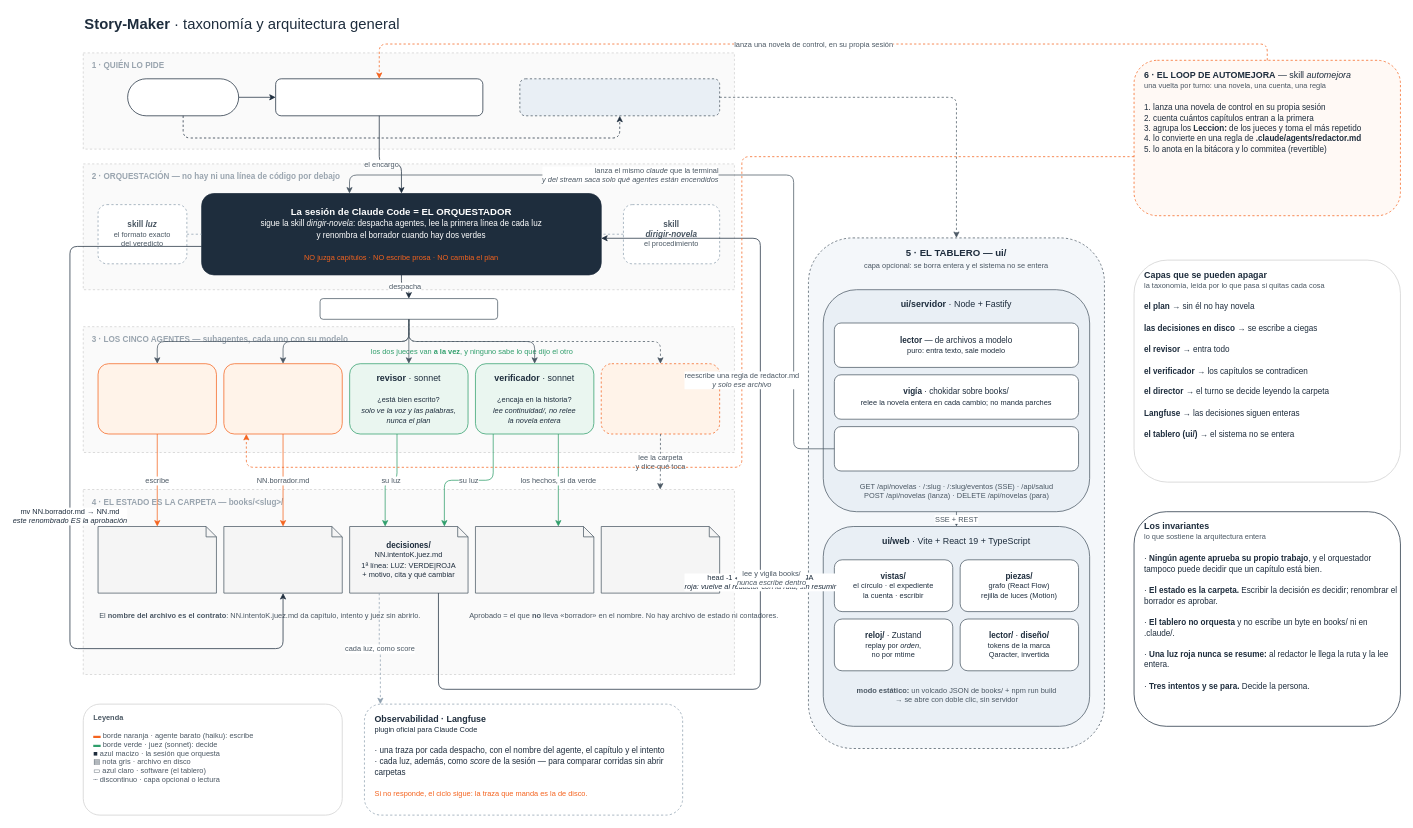
The diagram is 1413 pixels wide and 828 high, and some of its shapes have lost their labels. The shapes that lost their labels are listed below. From the top down, each one's centre as x and y in pixels, then its label:
At pixel 183 97: "Persona".
At pixel 379 97: "Terminal / VS Code > una novela sobre una ciclista…".
At pixel 619 97: "El tablero · pestaña «Escribir novela» el mismo encargo, desde el navegador".
At pixel 408 308: "herramienta Agent · description: «redactor · cap 03 · intento 2»".
At pixel 156 398: "arquitecto · haiku convierte la idea y la longitud en el plan de la novela".
At pixel 282 398: "redactor · haiku escribe el capítulo, y lo reescribe si le dan roja".
At pixel 660 398: "director · haiku ¿qué toca ahora? solo cuando no está claro cómo seguir".
At pixel 956 448: "lanzador — claude -p … stream-json escribe el prompt y se aparta".
At pixel 156 559: "plan.md título · la voz · capítulos previstos".
At pixel 282 559: "capitulos/ NN.borrador.md → NN.md (aprobado)".
At pixel 534 559: "continuidad/ los hechos que fijó cada capítulo aprobado".
At pixel 660 559: "novela.md · sesion.json el libro cerrado y la cuenta (coste, tokens, subagentes)".
